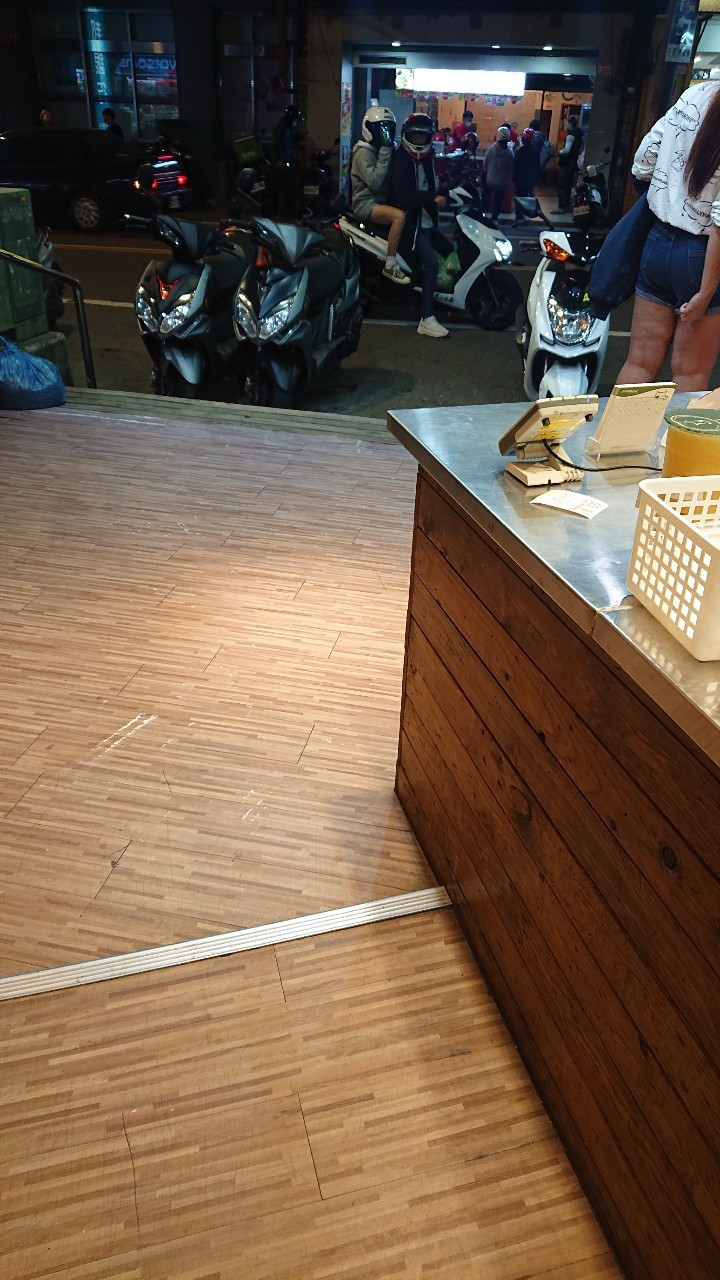people: (630, 72, 720, 390), (403, 114, 452, 347), (348, 108, 399, 282), (487, 119, 516, 219), (556, 121, 587, 212), (518, 127, 538, 212), (452, 106, 479, 153), (534, 121, 556, 170)
